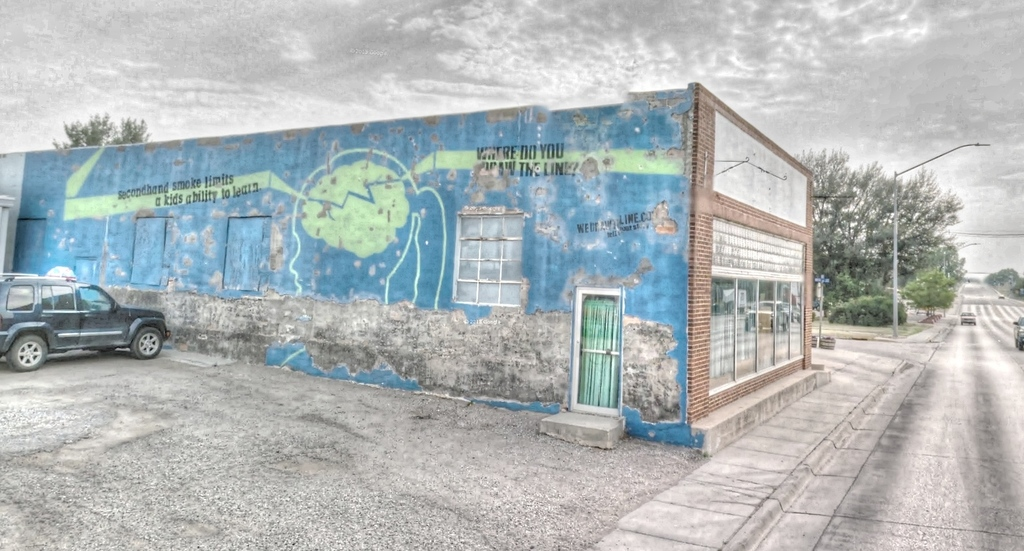Car: (0, 274, 169, 378)
